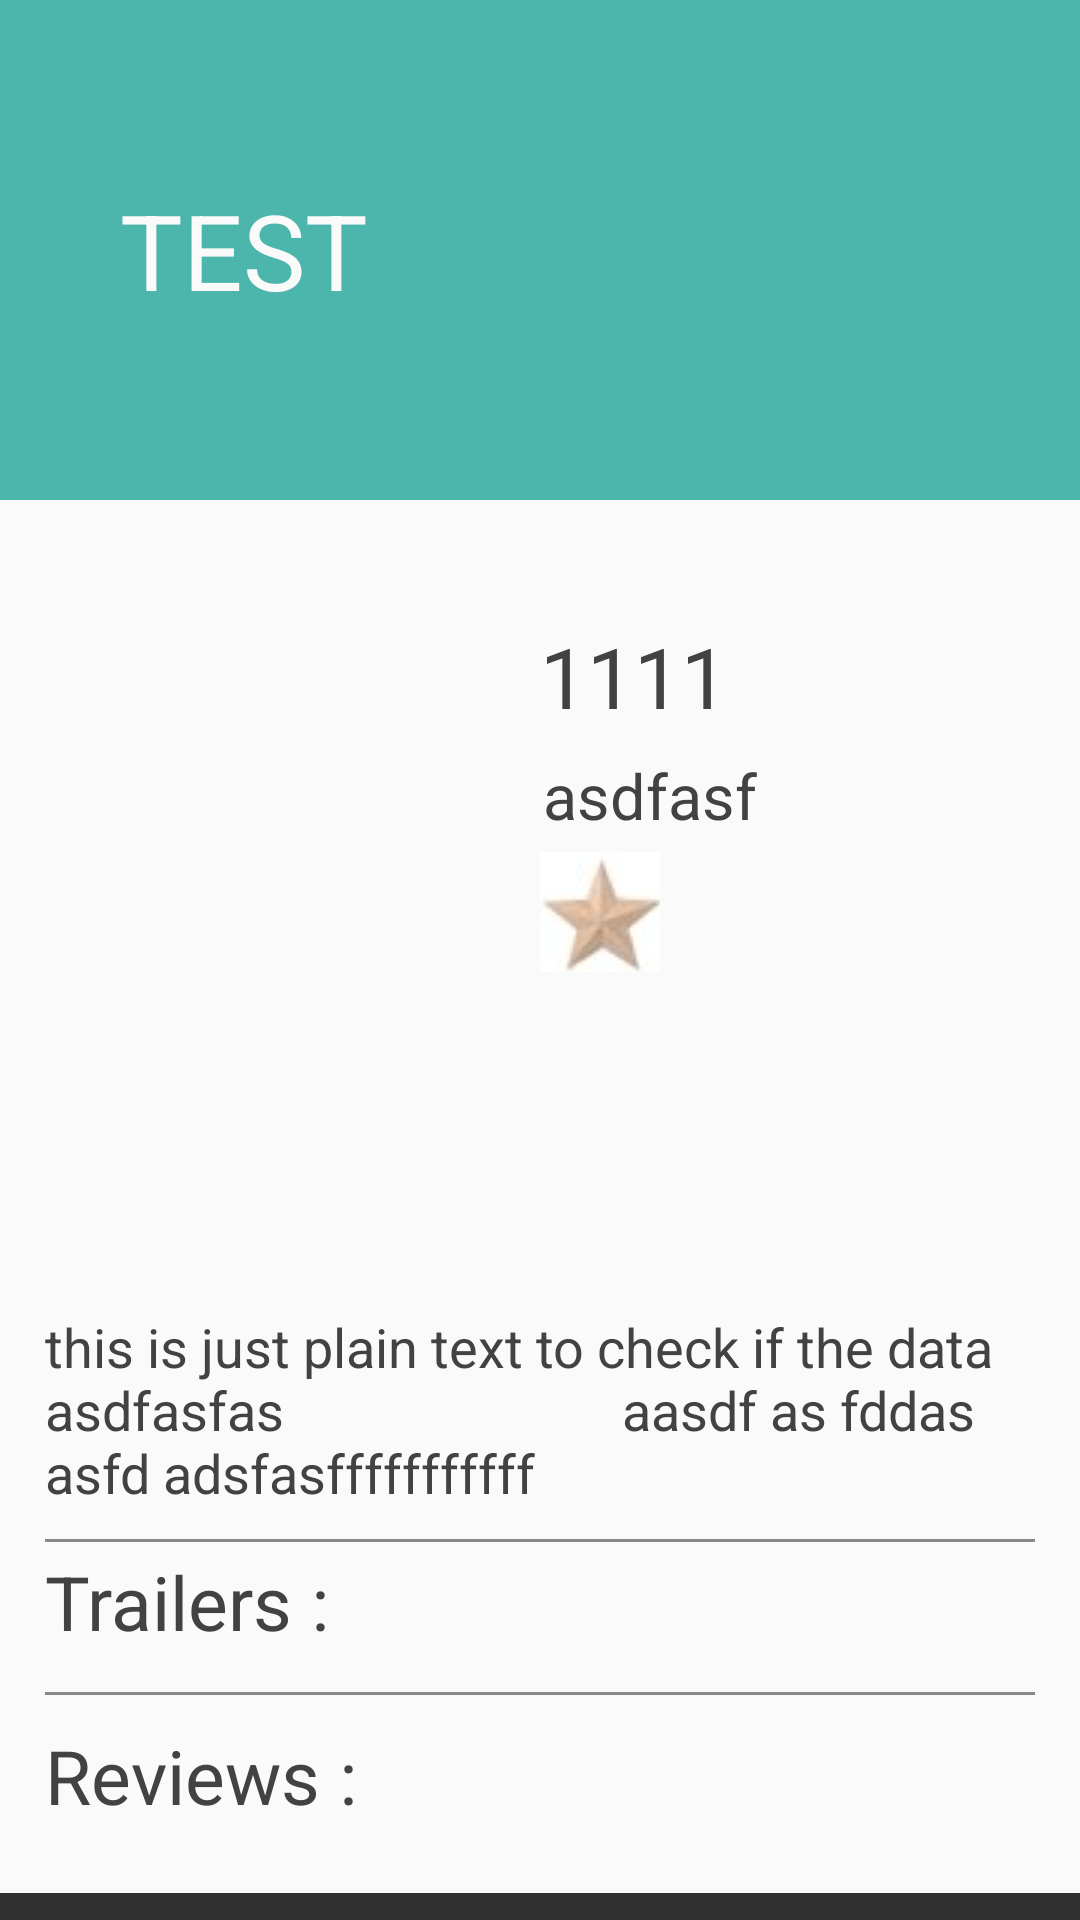

Icon click points for this 1080 x 1920 phone screenshot, format (x=x, y=y):
planestar: (x=602, y=915)
